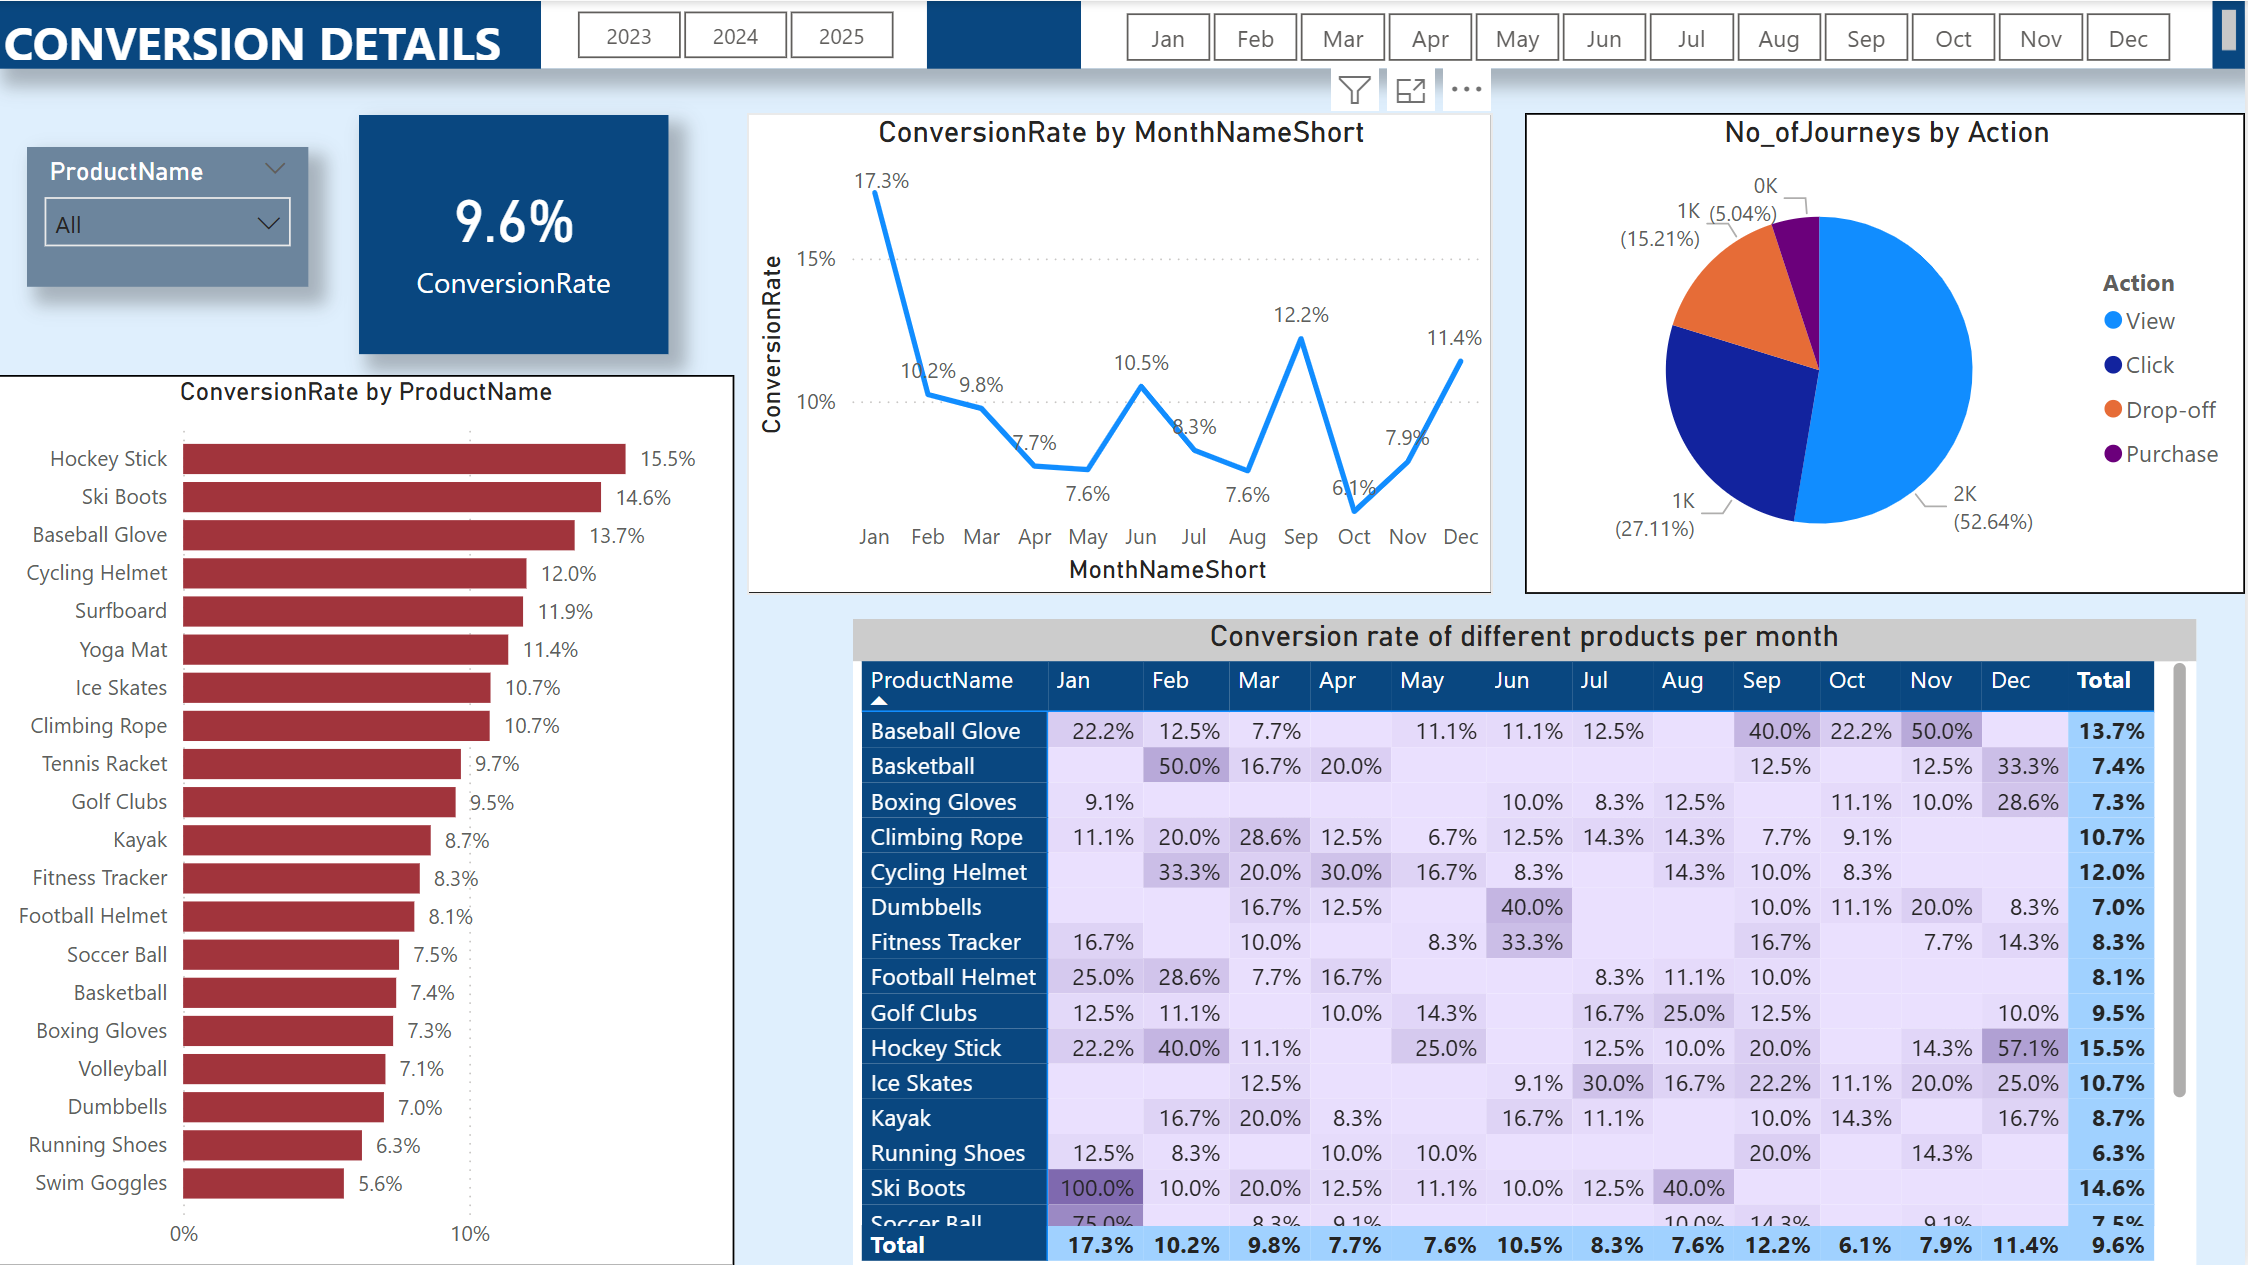

The page's visual inventory and layout, read from the dashboard file:
{"tool":"powerbi","page":{"name":"ConversionDetails","canvas":[1280,720],"ordinal":1},"visuals":[{"type":"textbox","box":[0.5,0,1279.5,38.6],"z":0},{"type":"slicer","fields":{"Values":["dim_products.ProductName"]},"box":[18.1,83.1,160.2,79.5],"z":1000},{"type":"card","fields":{"Values":["Calcultions_Measures.ConversionRate"]},"box":[207.2,65.1,175.9,136.1],"z":2000},{"type":"slicer","fields":{"Values":["Calendar.Year"]},"box":[310.8,0,219.3,38.6],"z":3000},{"type":"slicer","fields":{"Values":["Calendar.MonthNameShort"]},"box":[618.1,0,643.4,38.6],"z":4000},{"type":"clusteredBarChart","fields":{"Y":["Calcultions_Measures.ConversionRate"],"Category":["dim_products.ProductName"]},"box":[0,213.3,420.5,507.2],"z":5000},{"type":"pivotTable","title":"Conversion rate of different products per month","fields":{"Rows":["dim_products.ProductName"],"Columns":["Calendar.MonthNameShort"],"Values":["Calcultions_Measures.ConversionRate"]},"box":[488,351.8,763.9,369.9],"z":6000},{"type":"lineChart","fields":{"Y":["Calcultions_Measures.ConversionRate"],"Category":["Calendar.MonthNameShort"]},"box":[427.7,63.9,424.1,273.5],"z":7000},{"type":"pieChart","fields":{"Y":["Calcultions_Measures.No_ofJourneys"],"Category":["Fact_customer_journey.Action"]},"box":[869.9,63.9,409.6,273.5],"z":8000}]}

Visuals, with their boxes in screenshot pixels (x1, y1, x2, y2), scaled from the page's 1280x720 canvas onto the 2248x1265 screenshot:
textbox: [left=1, top=0, right=2247, bottom=68]
slicer - dim_products.ProductName: [left=32, top=146, right=313, bottom=286]
card - Calcultions_Measures.ConversionRate: [left=364, top=114, right=673, bottom=353]
slicer - Calendar.Year: [left=546, top=0, right=931, bottom=68]
slicer - Calendar.MonthNameShort: [left=1086, top=0, right=2216, bottom=68]
clusteredBarChart - Calcultions_Measures.ConversionRate x dim_products.ProductName: [left=0, top=375, right=739, bottom=1264]
"Conversion rate of different products per month" pivotTable: [left=857, top=618, right=2199, bottom=1264]
lineChart - Calcultions_Measures.ConversionRate x Calendar.MonthNameShort: [left=751, top=112, right=1496, bottom=593]
pieChart - Calcultions_Measures.No_ofJourneys x Fact_customer_journey.Action: [left=1528, top=112, right=2247, bottom=593]
